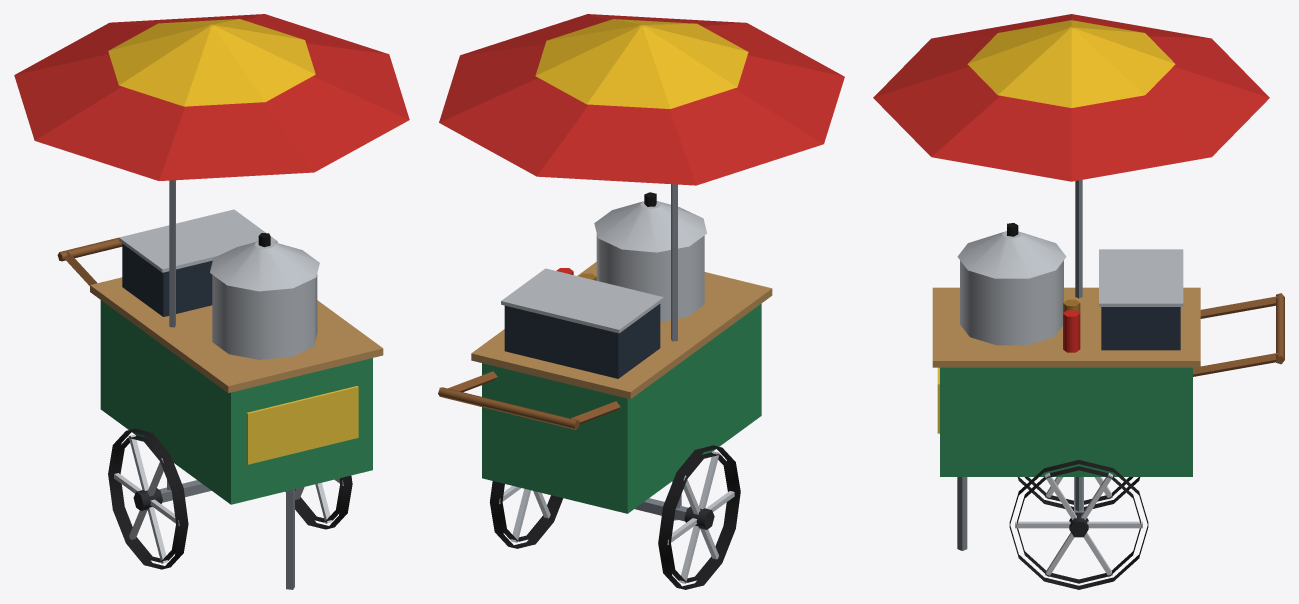
Rendered from gerobak_cilok.glb.
The picture shows the model from 3 angles, left to right: view 1: azimuth 30°, elevation 25°; view 2: azimuth 150°, elevation 25°; view 3: azimuth 270°, elevation 25°; orthographic projection. The views are drawn at different scales.
Parts seen in each view (by area): view 1: body, wheel_r, wheel_l; view 2: body, wheel_r, wheel_l; view 3: body, wheel_l, wheel_r.
Boxes of the visible parts, x1,y1,x2,y2 form: body: (14, 14, 409, 589); wheel_r: (108, 428, 188, 569); wheel_l: (285, 475, 352, 529); body: (438, 14, 844, 521); wheel_r: (658, 445, 740, 589); wheel_l: (489, 481, 562, 548); body: (873, 14, 1284, 550); wheel_l: (1009, 460, 1148, 589); wheel_r: (1017, 477, 1140, 510).
Size of the model in its own units: 1.6 by 2.27 by 1.66.
